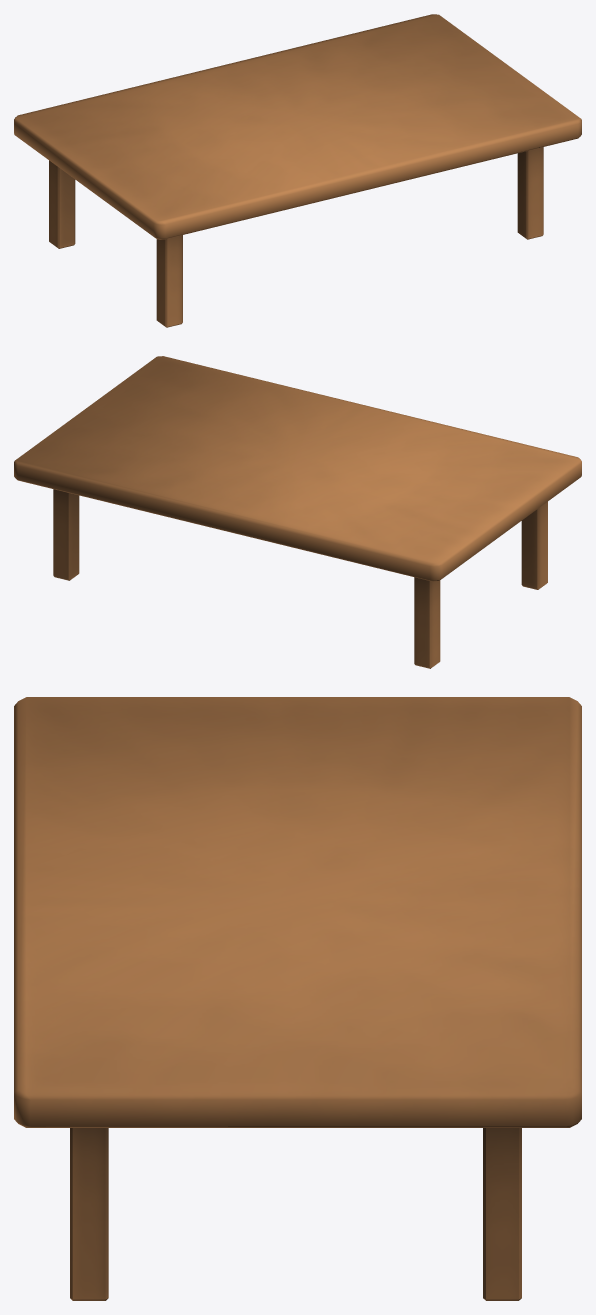
Rendered from coffeTable.fbx.
3 renders of one model, top to bottom at view 1: azimuth 30°, elevation 25°; view 2: azimuth 150°, elevation 25°; view 3: azimuth 270°, elevation 25°, orthographic. The views are drawn at different scales.
Parts seen in each view (by area): view 1: unwrapped:pCube51; view 2: unwrapped:pCube51; view 3: unwrapped:pCube51.
Boxes of the visible parts, bbox=[...] form: unwrapped:pCube51: bbox=[14, 14, 581, 327]; unwrapped:pCube51: bbox=[14, 356, 581, 668]; unwrapped:pCube51: bbox=[14, 697, 581, 1300].
Bounding box in the file's own units: 249 × 66.89 × 149.
